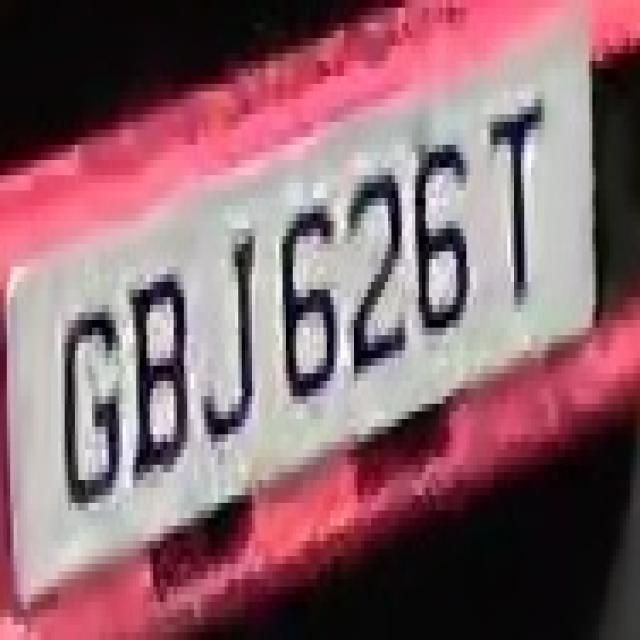2: (334, 122, 405, 396)
6: (398, 122, 477, 366), (272, 175, 340, 419)
B: (126, 243, 194, 488)
G: (54, 274, 130, 534)
J: (201, 221, 269, 449)
T: (483, 76, 555, 335)
